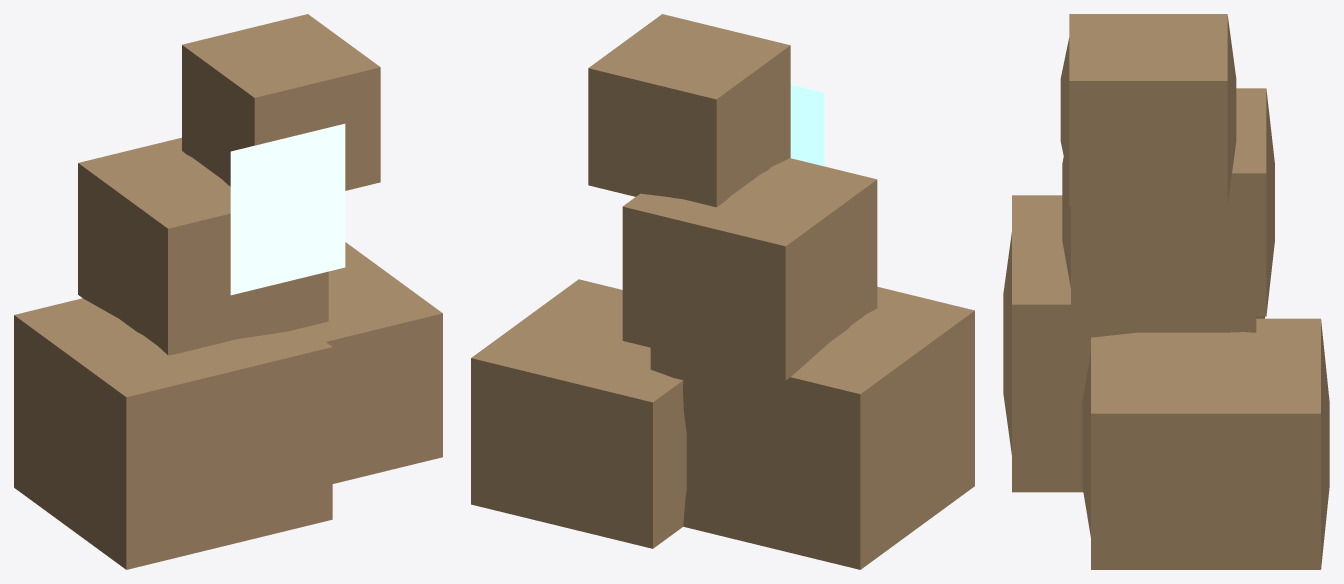
File: sigil_crates.glb
3 renders of one model, left to right at view 1: azimuth 30°, elevation 25°; view 2: azimuth 150°, elevation 25°; view 3: azimuth 270°, elevation 25°, orthographic. The views are drawn at different scales.
Visible parts, largest first — view 1: crates, sigil; view 2: crates, sigil; view 3: crates.
Boxes of the visible parts, x1,y1,x2,y2 form: crates: [14, 14, 442, 569]; sigil: [230, 123, 345, 295]; crates: [471, 14, 974, 569]; sigil: [790, 85, 824, 166]; crates: [1003, 14, 1329, 569].
Size of the model in its own units: 1.6 by 1.76 by 1.13.
